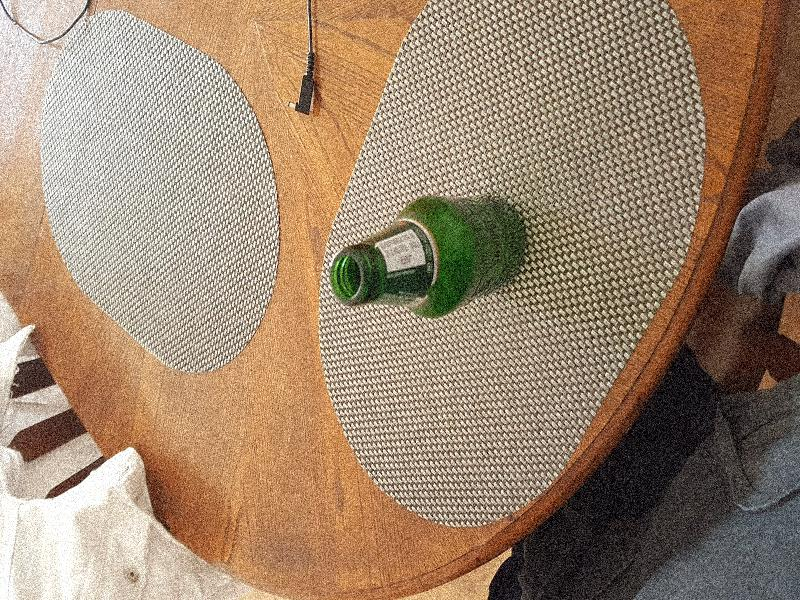Beer: (332, 197, 527, 319)
